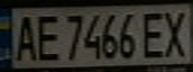4: (81, 10, 103, 61)
6: (118, 9, 142, 60), (100, 10, 121, 60)
7: (60, 10, 84, 61)
A: (9, 11, 39, 62)
E: (139, 8, 172, 60), (33, 11, 63, 62)
X: (160, 7, 193, 58)
